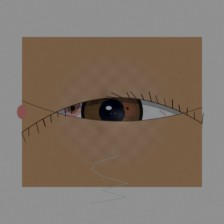foreign_body_visible: (58, 96, 88, 120)
